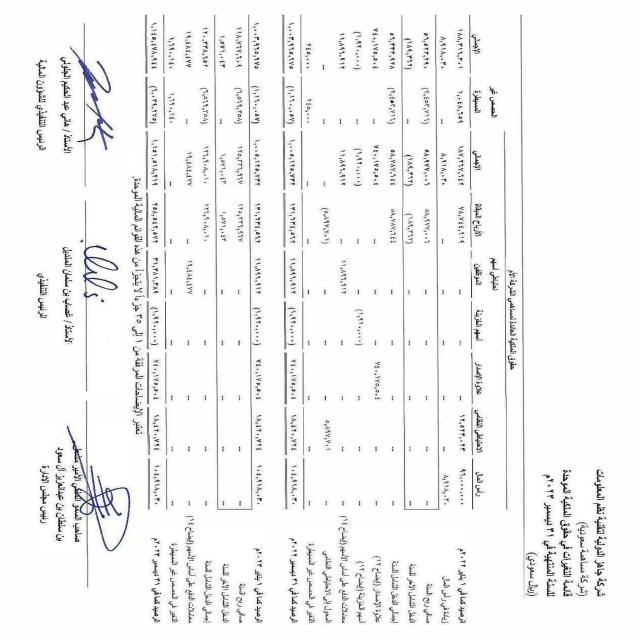financial_sheets: (556, 463, 575, 605)
table: (140, 0, 518, 527)
